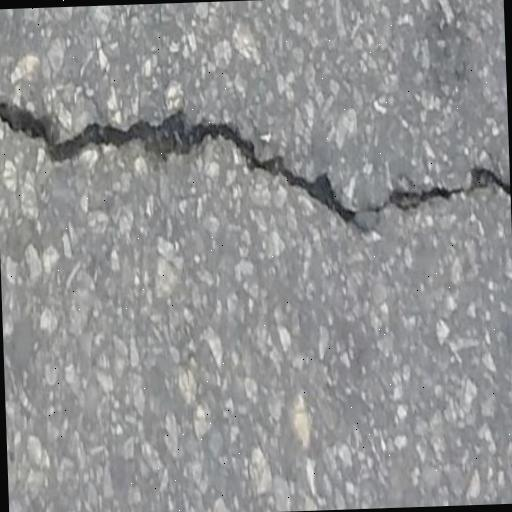spalling: (0, 89, 508, 232)
